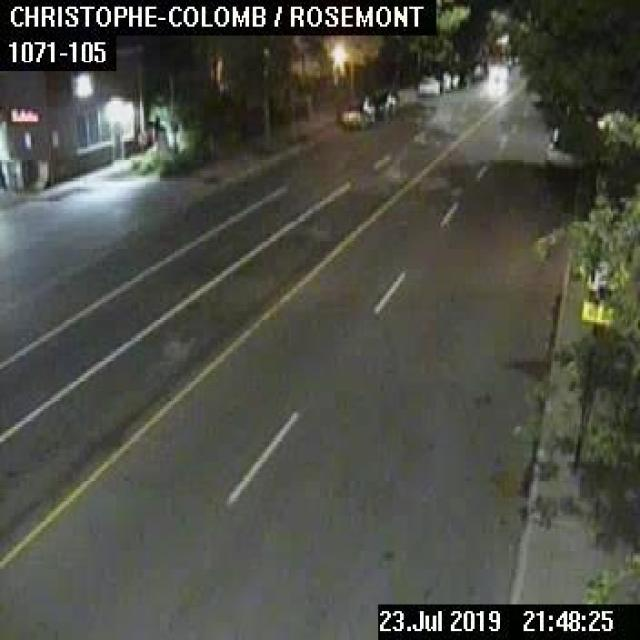vehicle: (340, 95, 373, 126), (545, 138, 573, 164), (373, 91, 395, 119), (418, 76, 438, 92), (449, 71, 465, 88), (437, 70, 449, 91)
